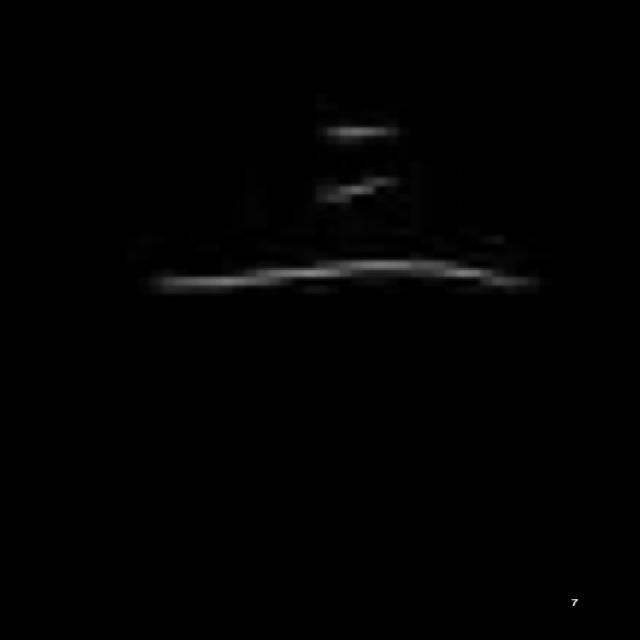3 -three-: (142, 110, 539, 313)
